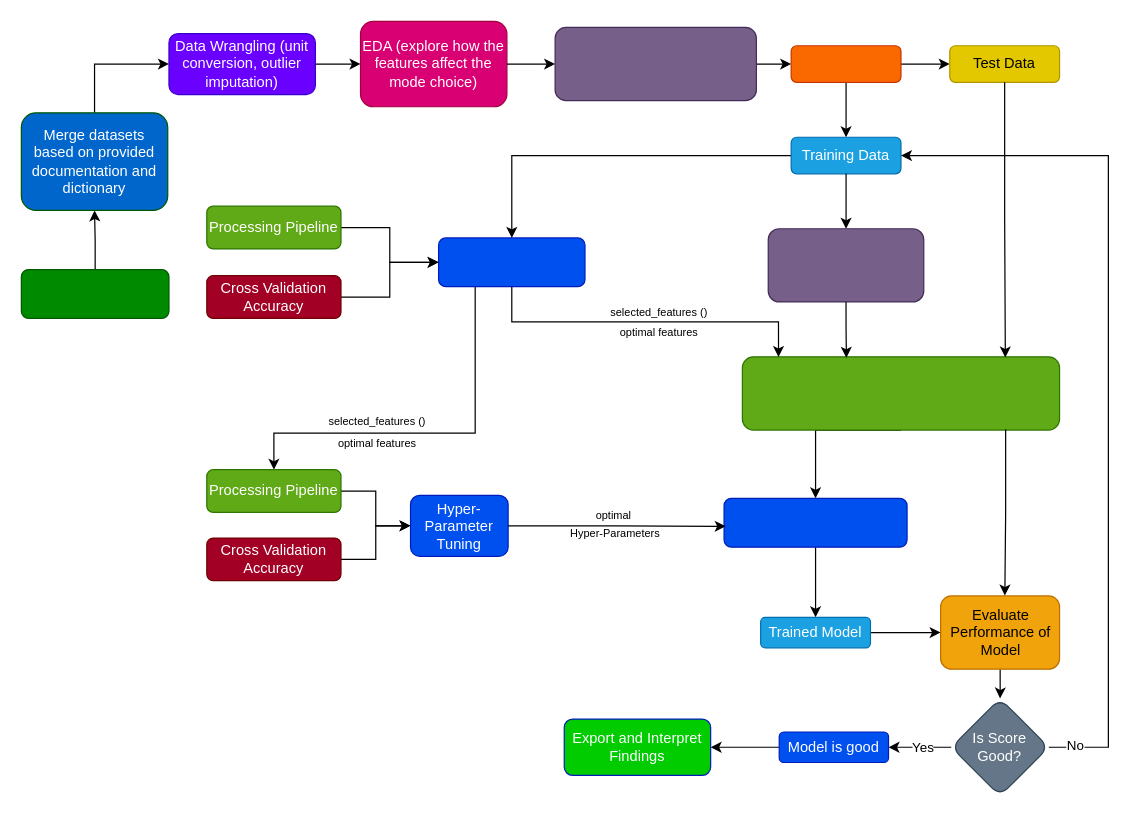
This 1139x817 diagram has some shape labels left out. The shapes that lost their labels are listed below. From the top down, each one's centre as x and y in pixels, then its label:
At point 655,63: "Feature Engineering: create features based on EDA".
At point 845,63: "Train/Val/Test Split".
At point 511,262: "Feature Selection".
At point 845,265: "Deal with class imbalance using SMOTE".
At point 94,293: "Import California Survey datasets".
At point 900,393: "Processing Pipeline (apply engineered and selected features to datasets)".
At point 815,522: "Train Model (RandomForestClassifier)".
